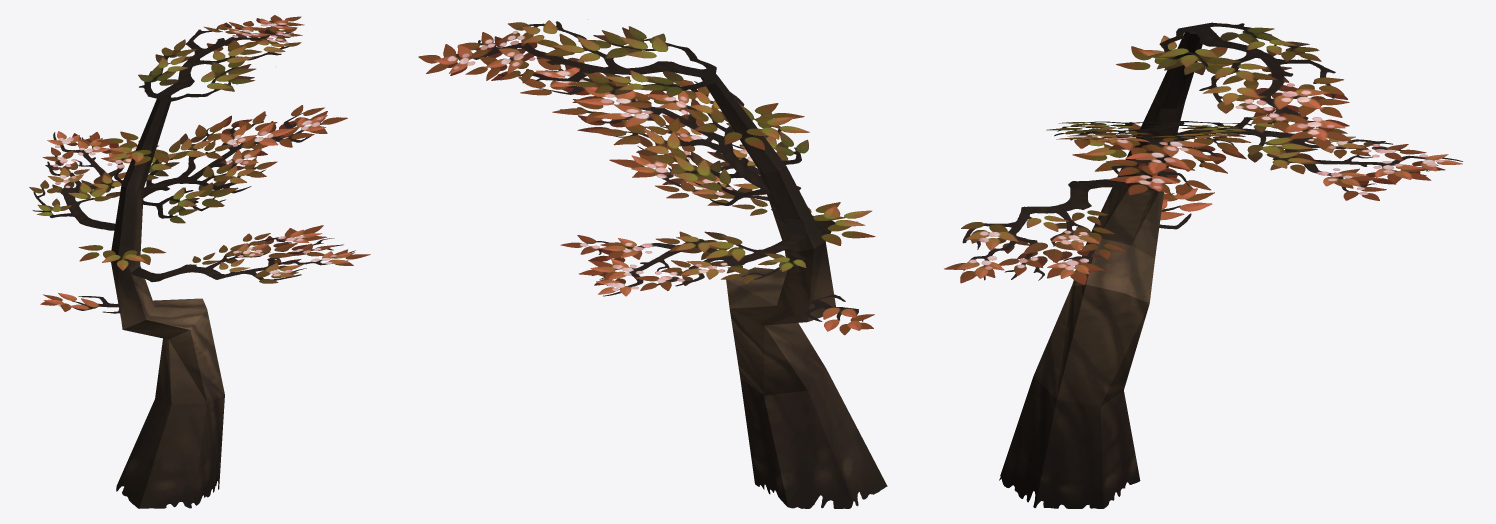
The model's file is cherrytree_small_03.fbx.
3 renders of one model, left to right at view 1: azimuth 30°, elevation 25°; view 2: azimuth 150°, elevation 25°; view 3: azimuth 270°, elevation 25°, orthographic. The views are drawn at different scales.
Visible parts, largest first — view 1: obj1.022; view 2: obj1.022; view 3: obj1.022.
Boxes of the visible parts, left/top/right/bottom form: obj1.022: left=29, top=15, right=370, bottom=508; obj1.022: left=418, top=20, right=887, bottom=508; obj1.022: left=944, top=22, right=1462, bottom=508.
Size of the model in its own units: 4.57 by 4.79 by 4.7.
